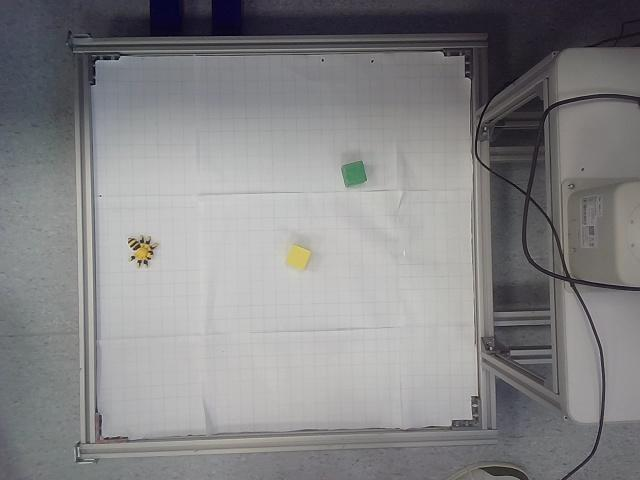frelon: (128, 235, 159, 268)
